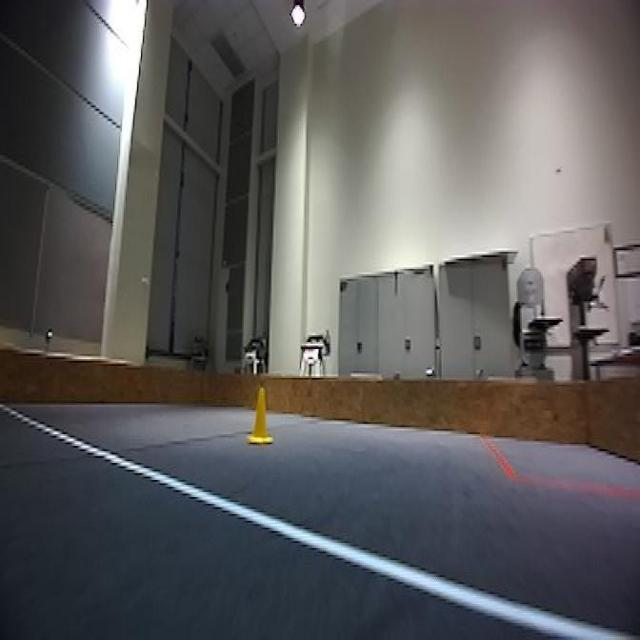frc_cone: (246, 383, 275, 451)
